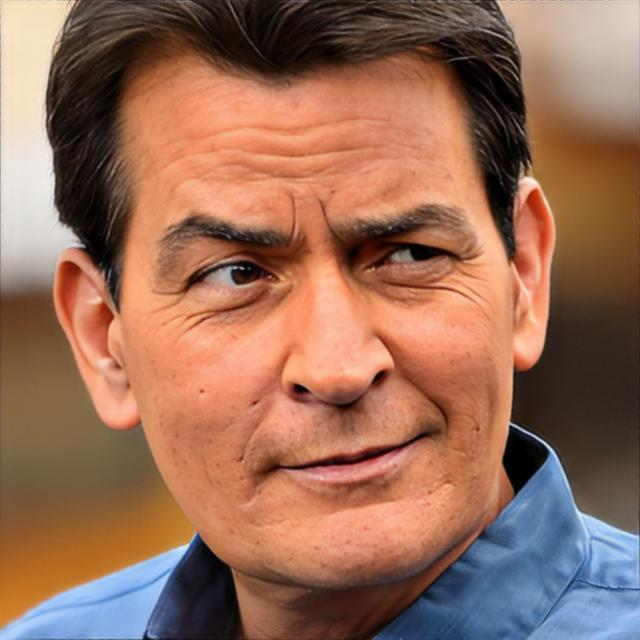content: (127, 39, 517, 585)
